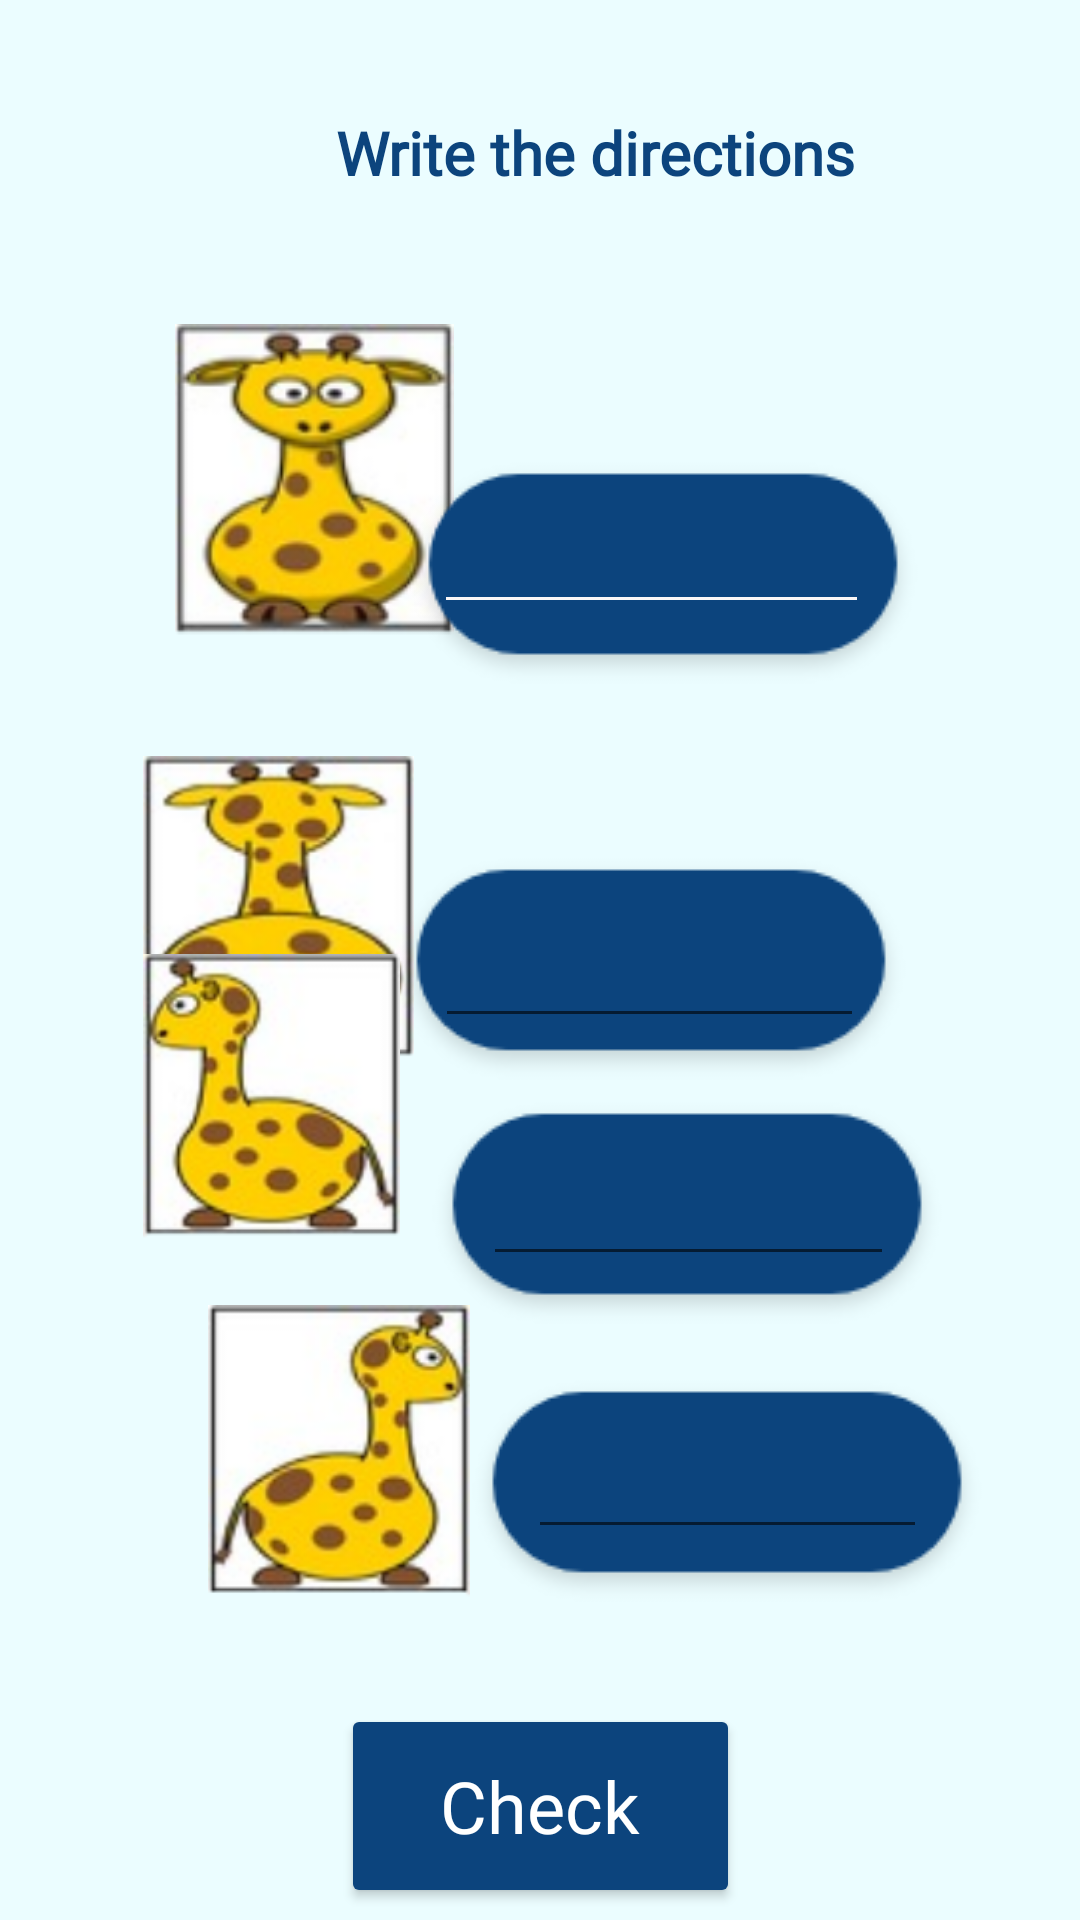

Named icons in this screenshot (1080w x 1920h) and their centers, point (x, y):
front: point (327, 487)
left: point (296, 1094)
right: point (339, 1449)
